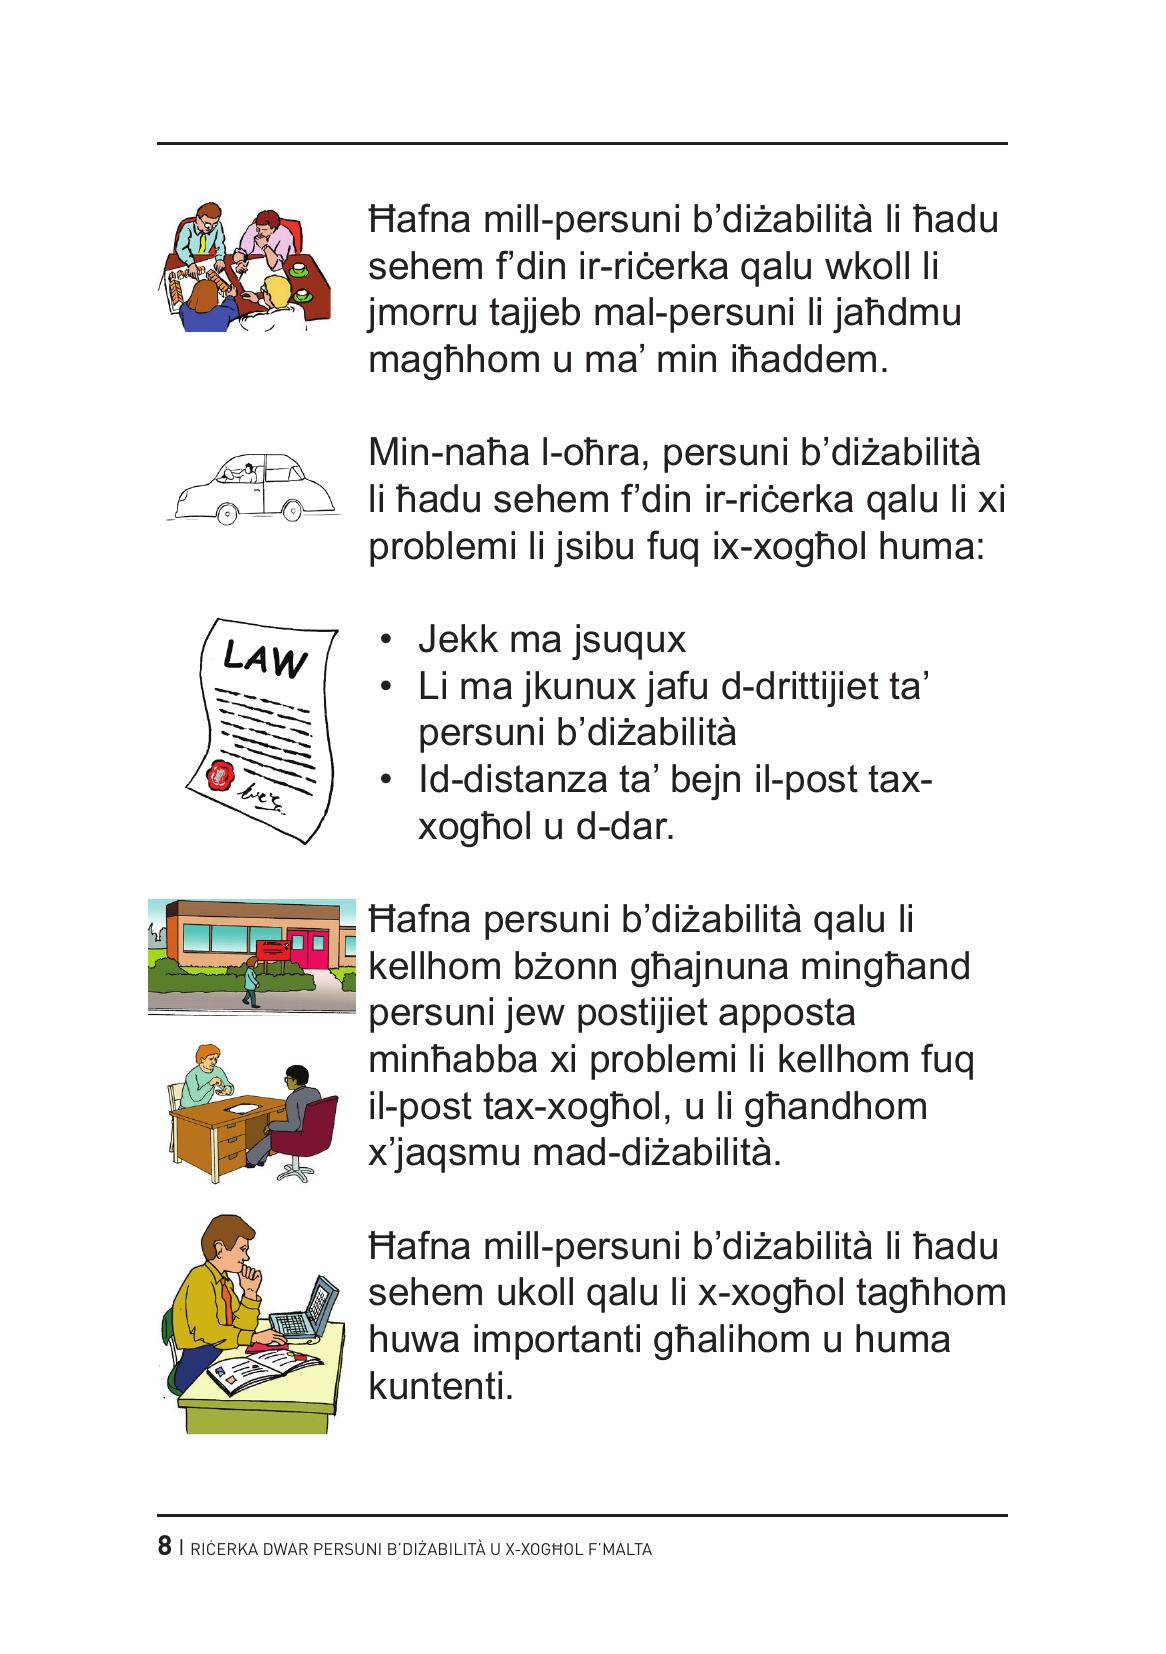text: (360, 193, 1025, 1455)
